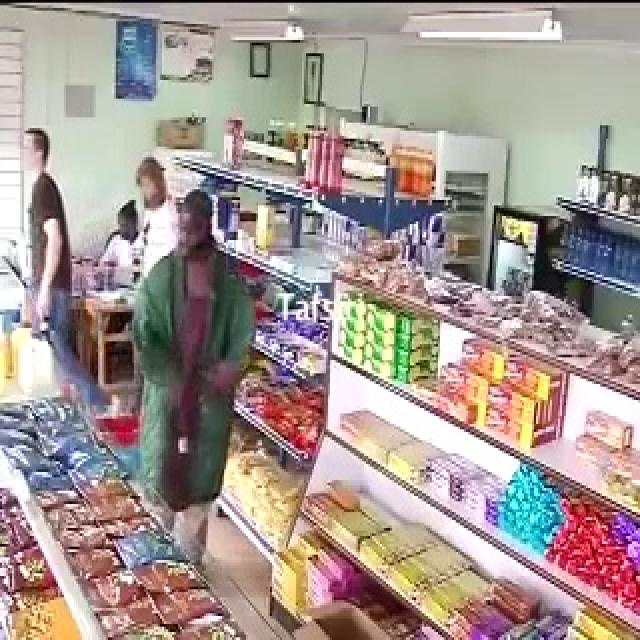normal: (99, 178, 239, 502), (10, 107, 87, 371), (103, 139, 165, 259)
